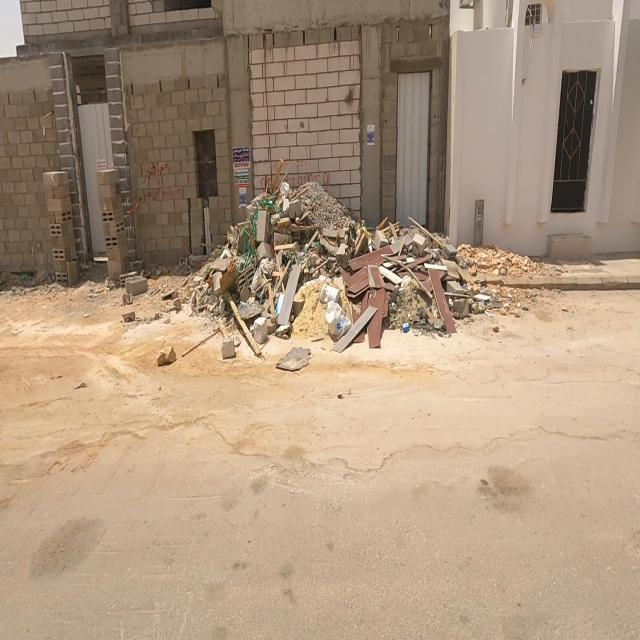Graffiti: (287, 147, 331, 187), (143, 160, 182, 203), (262, 176, 274, 191)
